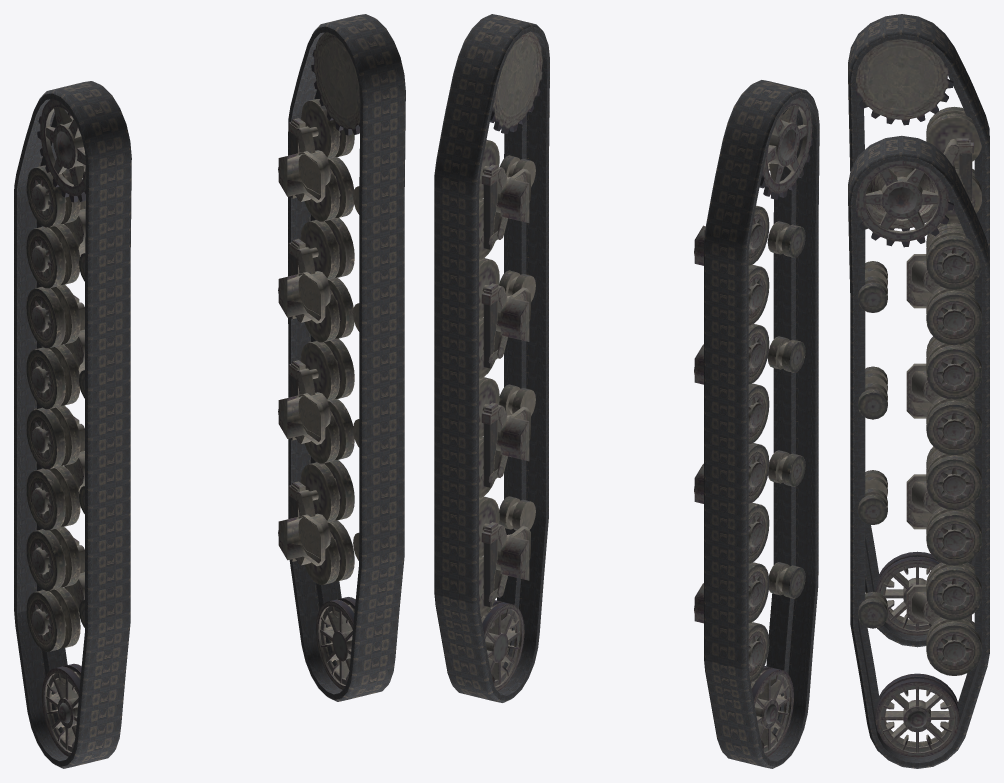
The model's file is Chassis.glb.
3 renders of one model, left to right at view 1: azimuth 30°, elevation 25°; view 2: azimuth 150°, elevation 25°; view 3: azimuth 270°, elevation 25°, orthographic. The views are drawn at different scales.
Visible parts, largest first — view 1: set_1_group_0, set_0_group_0, set_3_group_0, set_2_group_0; view 2: set_1_group_0, set_0_group_0, set_3_group_0, set_2_group_0; view 3: set_3_group_0, set_0_group_0, set_2_group_0, set_1_group_0.
Boxes of the visible parts, box(x1,y1,x2,y2) form: set_1_group_0: box(14, 81, 131, 768); set_0_group_0: box(288, 14, 405, 701); set_3_group_0: box(278, 32, 360, 689); set_2_group_0: box(26, 99, 86, 756); set_1_group_0: box(704, 80, 819, 768); set_0_group_0: box(434, 14, 549, 702); set_3_group_0: box(479, 31, 542, 690); set_2_group_0: box(694, 97, 812, 756); set_3_group_0: box(856, 160, 981, 757); set_0_group_0: box(848, 135, 989, 768); set_2_group_0: box(856, 39, 981, 635); set_1_group_0: box(848, 14, 989, 647).
Size of the model in its own units: 2.83 by 5.71 by 1.19.
4 materials, 4 textured.
